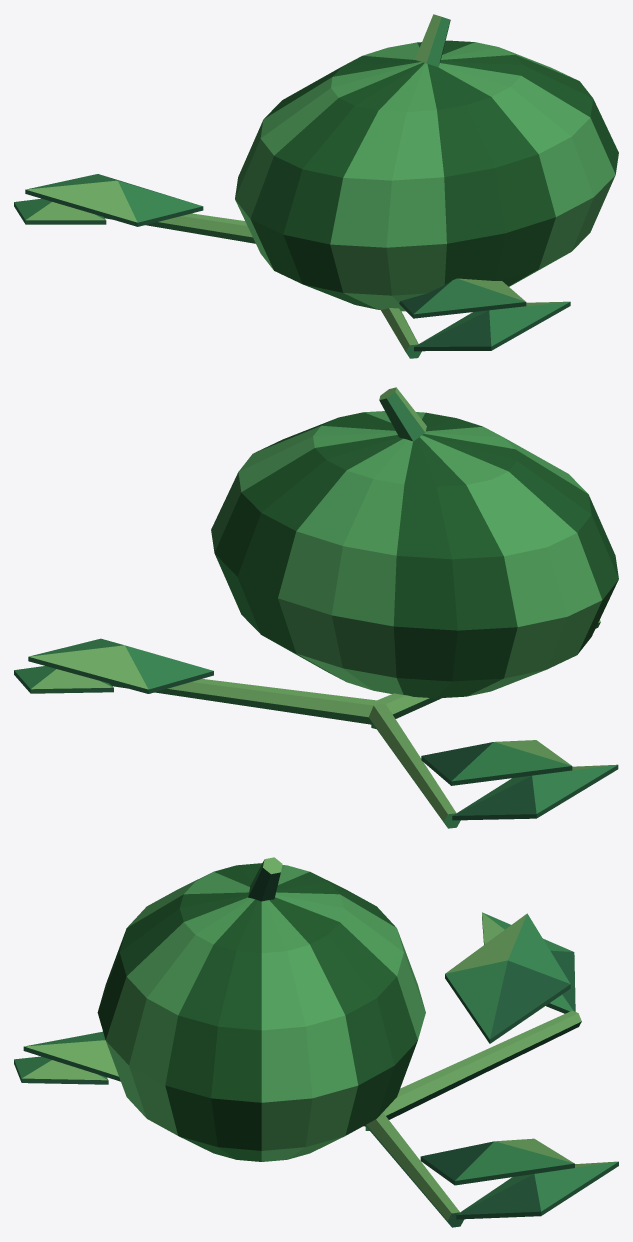
The model's file is watermelon_stage_04.fbx.
The picture shows the model from 3 angles, top to bottom: view 1: azimuth 30°, elevation 25°; view 2: azimuth 150°, elevation 25°; view 3: azimuth 270°, elevation 25°; orthographic projection. The views are drawn at different scales.
Parts seen in each view (by area): view 1: watermelon_stage_04, watermelon_stage_04__Foliage; view 2: watermelon_stage_04, watermelon_stage_04__Foliage; view 3: watermelon_stage_04, watermelon_stage_04__Foliage.
Part boxes in pixels (x1,y1,x2,y2): watermelon_stage_04: [235, 14, 618, 311]; watermelon_stage_04__Foliage: [14, 174, 570, 358]; watermelon_stage_04: [211, 387, 618, 698]; watermelon_stage_04__Foliage: [14, 620, 618, 828]; watermelon_stage_04: [97, 857, 425, 1161]; watermelon_stage_04__Foliage: [14, 912, 618, 1227].
Bounding box in the file's own units: 2.39 × 1.16 × 2.21.
1 material, 1 textured.
